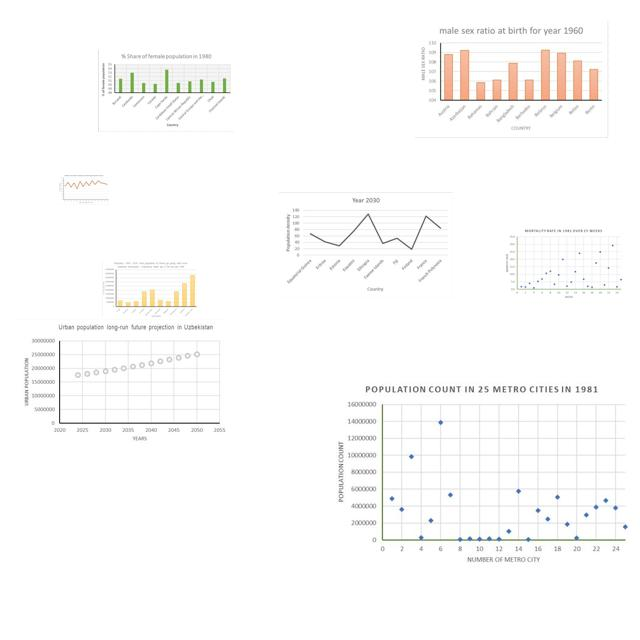Graph: (336, 382, 634, 570), (15, 319, 228, 445), (415, 21, 609, 138), (279, 192, 453, 298), (98, 50, 234, 132), (505, 228, 625, 300), (102, 261, 198, 318), (58, 174, 110, 205)
